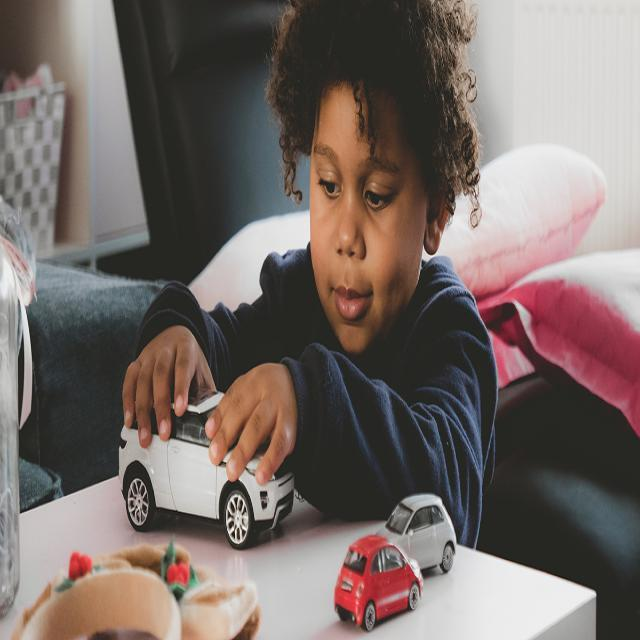hard-toy: (119, 392, 294, 548), (334, 535, 422, 631), (381, 494, 456, 572)
